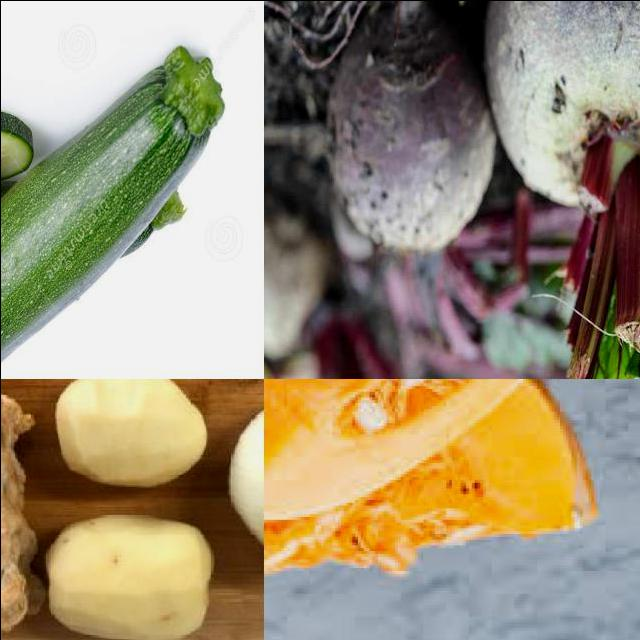beet: (331, 1, 497, 247), (484, 1, 640, 222)
potato: (45, 523, 211, 640), (54, 379, 205, 492)
zucchini: (1, 90, 228, 379)
